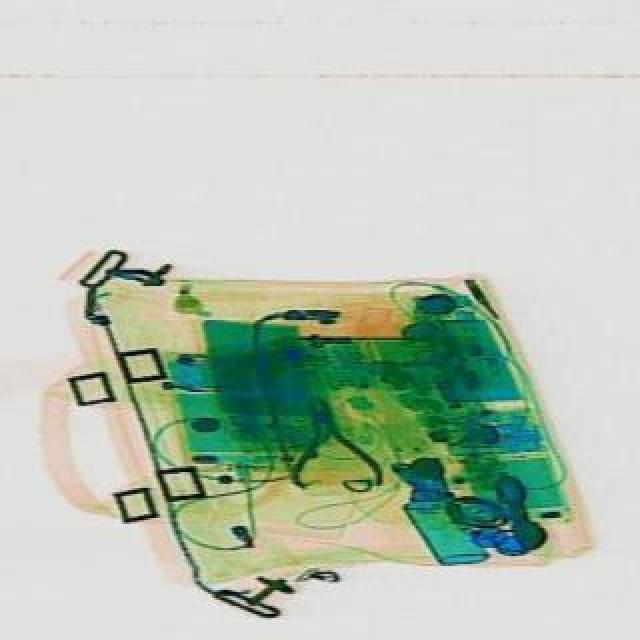wrench: (270, 386, 378, 500)
